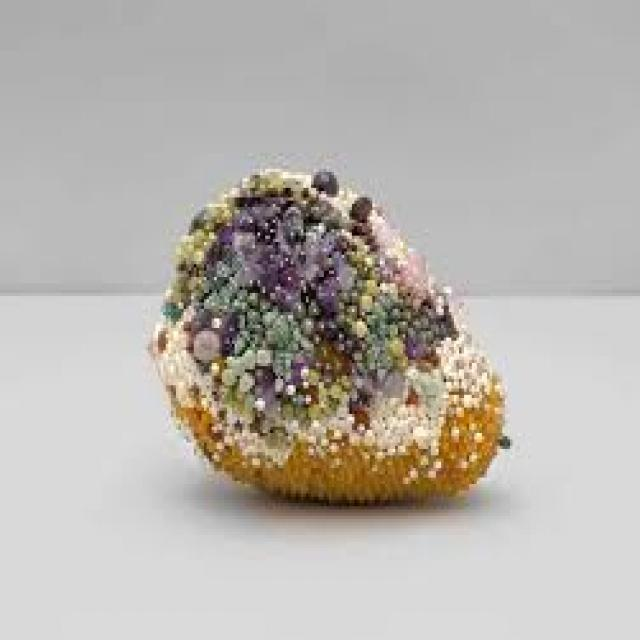organic waste: (145, 165, 510, 500)
